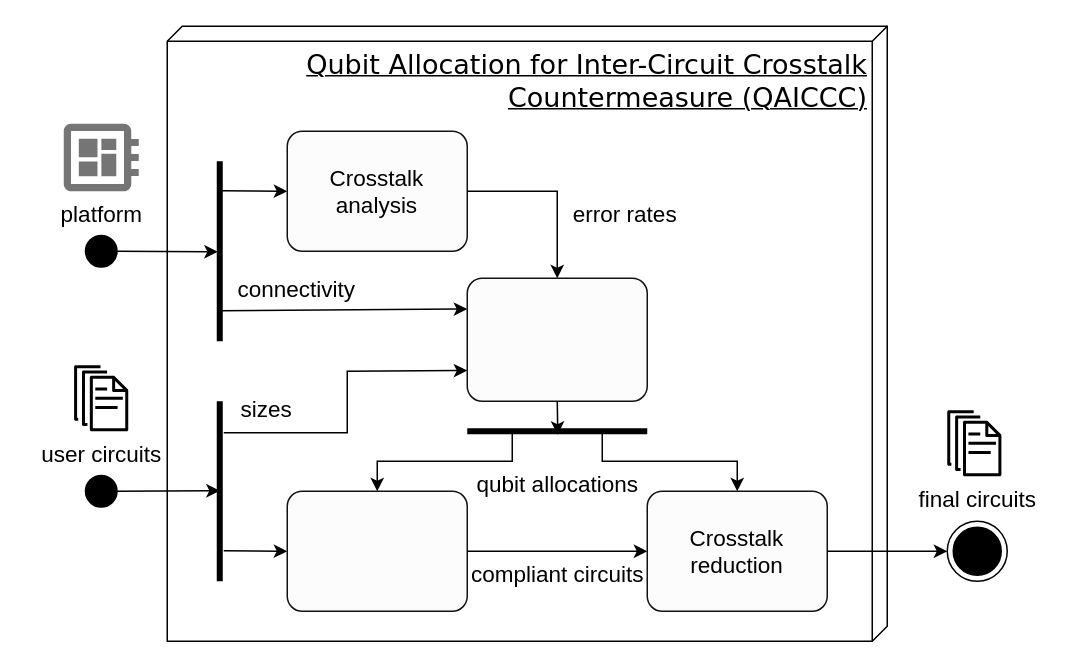
Image size: 1077x668. Some labels were removed from this diagram. The box of each missing label's shape, as (x1, y1, x2, y2) in pixels:
Allocation algorithm: (466, 277, 647, 401)
Transpilation: (286, 490, 467, 611)
